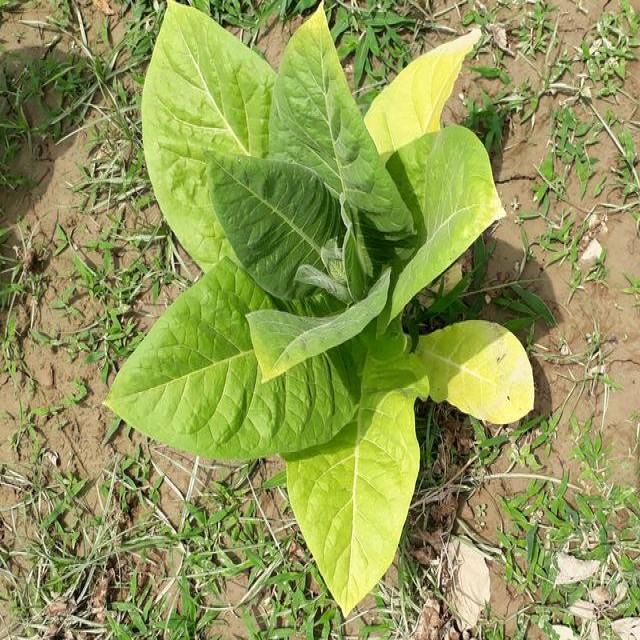crop: (106, 0, 536, 617)
